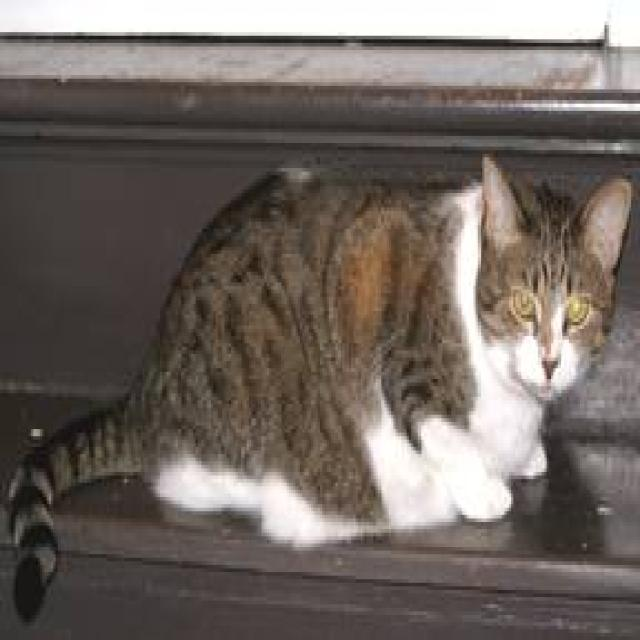cat: (2, 150, 631, 619)
